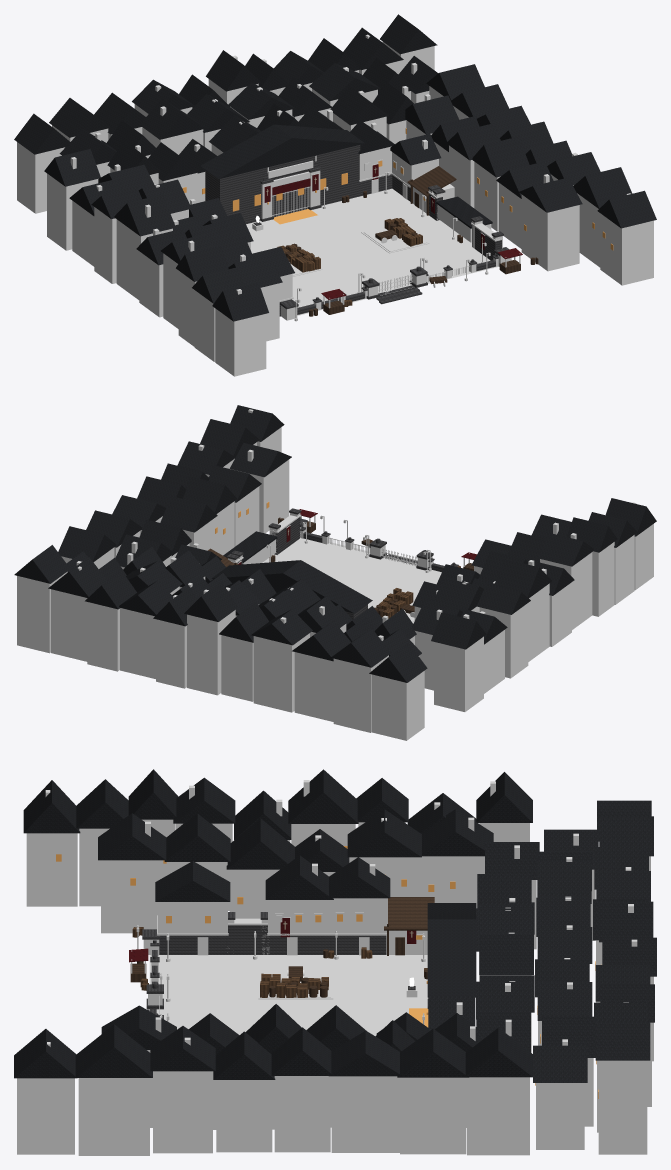
Rendered from town_station_05.fbx.
3 views of the same model, one above another, from view 1: azimuth 30°, elevation 25°; view 2: azimuth 150°, elevation 25°; view 3: azimuth 270°, elevation 25° (orthographic). The views are drawn at different scales.
Parts seen in each view (by area): view 1: _MeshInstance3D_3307, _MeshInstance3D_3958, _MeshInstance3D_3959, _MeshInstance3D_3704, _MeshInstance3D_3732, _MeshInstance3D_3645, _MeshInstance3D_3396, _MeshInstance3D_3615, _MeshInstance3D_3627, _MeshInstance3D_3628, _MeshInstance3D_3623, _MeshInstance3D_3697 (+73 smaller); view 2: _MeshInstance3D_3307, _MeshInstance3D_3615, _MeshInstance3D_3396, _MeshInstance3D_3959, _MeshInstance3D_3404, _MeshInstance3D_3410, _MeshInstance3D_3399, _MeshInstance3D_3401, _MeshInstance3D_3430, _MeshInstance3D_3425, _MeshInstance3D_3418, _MeshInstance3D_3422 (+65 smaller); view 3: _MeshInstance3D_3307, _MeshInstance3D_3729, _MeshInstance3D_3714, _MeshInstance3D_3711, _MeshInstance3D_3726, _MeshInstance3D_3708, _MeshInstance3D_3430, _MeshInstance3D_3959, _MeshInstance3D_3732, _MeshInstance3D_3719, _MeshInstance3D_3723, _MeshInstance3D_3611 (+76 smaller).
Part boxes in pixels (box(x1,y1,x2,y2)): _MeshInstance3D_3307: box(246, 188, 498, 315); _MeshInstance3D_3958: box(205, 145, 360, 223); _MeshInstance3D_3959: box(200, 124, 364, 179); _MeshInstance3D_3704: box(521, 194, 579, 271); _MeshInstance3D_3732: box(600, 213, 653, 285); _MeshInstance3D_3645: box(215, 308, 266, 376); _MeshInstance3D_3396: box(17, 142, 64, 213); _MeshInstance3D_3615: box(47, 173, 98, 250); _MeshInstance3D_3627: box(116, 219, 172, 299); _MeshInstance3D_3628: box(114, 194, 175, 236); _MeshInstance3D_3623: box(94, 207, 116, 283); _MeshInstance3D_3697: box(472, 136, 529, 177); _MeshInstance3D_3307: box(262, 538, 441, 623); _MeshInstance3D_3615: box(434, 636, 483, 711); _MeshInstance3D_3396: box(371, 671, 424, 740); _MeshInstance3D_3959: box(211, 560, 372, 613); _MeshInstance3D_3404: box(253, 633, 309, 712); _MeshInstance3D_3410: box(187, 610, 235, 695); _MeshInstance3D_3399: box(333, 655, 388, 732); _MeshInstance3D_3401: box(294, 652, 333, 721); _MeshInstance3D_3430: box(17, 571, 67, 653); _MeshInstance3D_3425: box(51, 589, 87, 661); _MeshInstance3D_3418: box(120, 608, 155, 678); _MeshInstance3D_3422: box(87, 602, 119, 671); _MeshInstance3D_3307: box(149, 955, 428, 1036); _MeshInstance3D_3729: box(78, 1078, 149, 1155); _MeshInstance3D_3714: box(331, 1076, 399, 1152); _MeshInstance3D_3711: box(400, 1077, 466, 1154); _MeshInstance3D_3726: box(153, 1071, 212, 1153); _MeshInstance3D_3708: box(467, 1077, 529, 1155); _MeshInstance3D_3430: box(598, 1060, 647, 1154); _MeshInstance3D_3959: box(427, 903, 476, 997); _MeshInstance3D_3732: box(17, 1078, 74, 1154); _MeshInstance3D_3719: box(274, 1076, 330, 1152); _MeshInstance3D_3723: box(216, 1080, 272, 1152); _MeshInstance3D_3611: box(101, 860, 163, 933).
Size of what is drawn, in the model's own units: 6610 by 1532 by 6592.
